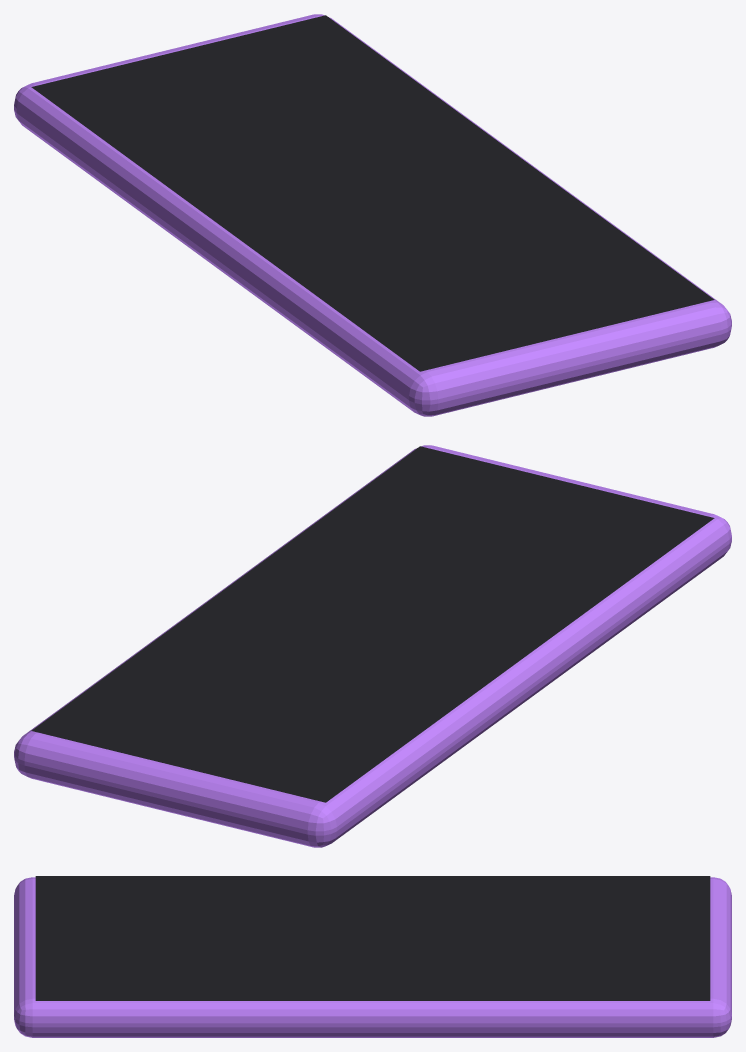
File: google-pixel-a-model-395-mid-range-2026.glb
3 renders of one model, top to bottom at view 1: azimuth 30°, elevation 25°; view 2: azimuth 150°, elevation 25°; view 3: azimuth 270°, elevation 25°, orthographic. The views are drawn at different scales.
Parts seen in each view (by area): view 1: Phone_Screen, Phone_Body; view 2: Phone_Screen, Phone_Body; view 3: Phone_Screen, Phone_Body.
Part boxes in pixels (bbox=[...]): Phone_Screen: bbox=[31, 15, 714, 371]; Phone_Body: bbox=[14, 14, 731, 416]; Phone_Screen: bbox=[31, 446, 714, 802]; Phone_Body: bbox=[14, 445, 731, 847]; Phone_Screen: bbox=[35, 876, 710, 1000]; Phone_Body: bbox=[14, 877, 731, 1037].
Bounding box in the file's own units: 0.0724 × 0.0094 × 0.162.
